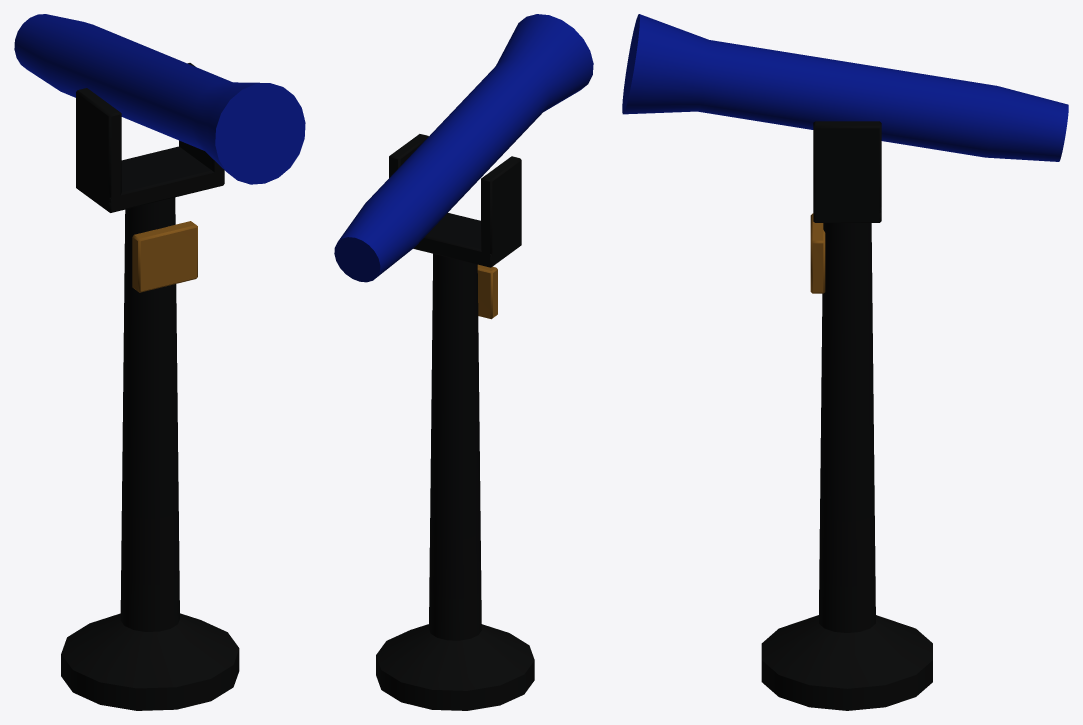
Rendered from hz-telescope.glb.
3 views of the same model, side by side, from view 1: azimuth 30°, elevation 25°; view 2: azimuth 150°, elevation 25°; view 3: azimuth 270°, elevation 25° (orthographic). The views are drawn at different scales.
Visible parts, largest first — view 1: pedestal__metal, tube__lacquer, fork__metal; view 2: pedestal__metal, tube__lacquer, fork__metal; view 3: pedestal__metal, tube__lacquer, fork__metal.
Boxes of the visible parts, x1,y1,x2,y2 form: pedestal__metal: (61, 197, 239, 710); tube__lacquer: (14, 14, 305, 184); fork__metal: (76, 63, 224, 212); pedestal__metal: (376, 253, 534, 710); tube__lacquer: (334, 14, 593, 282); fork__metal: (389, 134, 521, 267); pedestal__metal: (761, 213, 932, 710); tube__lacquer: (622, 14, 1068, 161); fork__metal: (813, 121, 881, 222).
Size of the model in its own units: 0.36 by 1.48 by 0.915.
